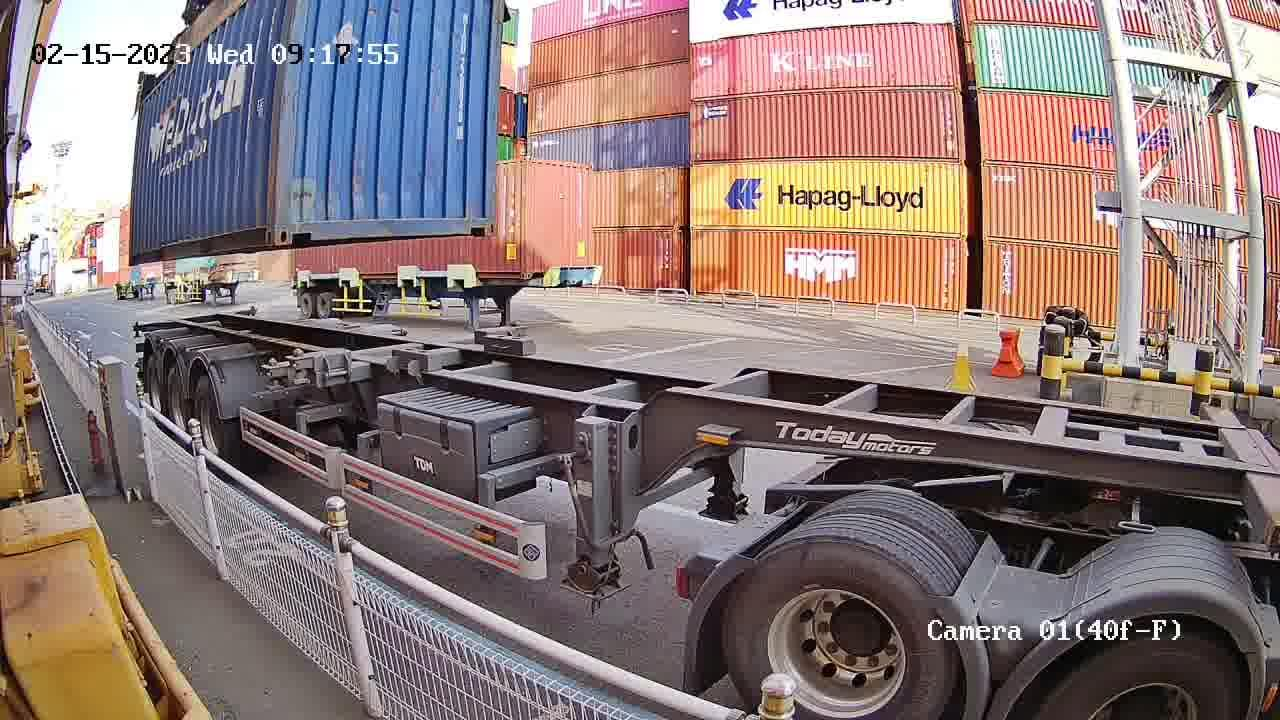Chassis: (293, 323, 523, 384)
Cone: (288, 347, 312, 384)
Hole_L: (275, 205, 314, 248)
Hole_R: (457, 195, 497, 234), (245, 206, 275, 248)
Tire: (724, 542, 954, 715), (1036, 636, 1246, 719), (194, 383, 233, 458), (144, 357, 167, 414), (167, 371, 189, 430)
